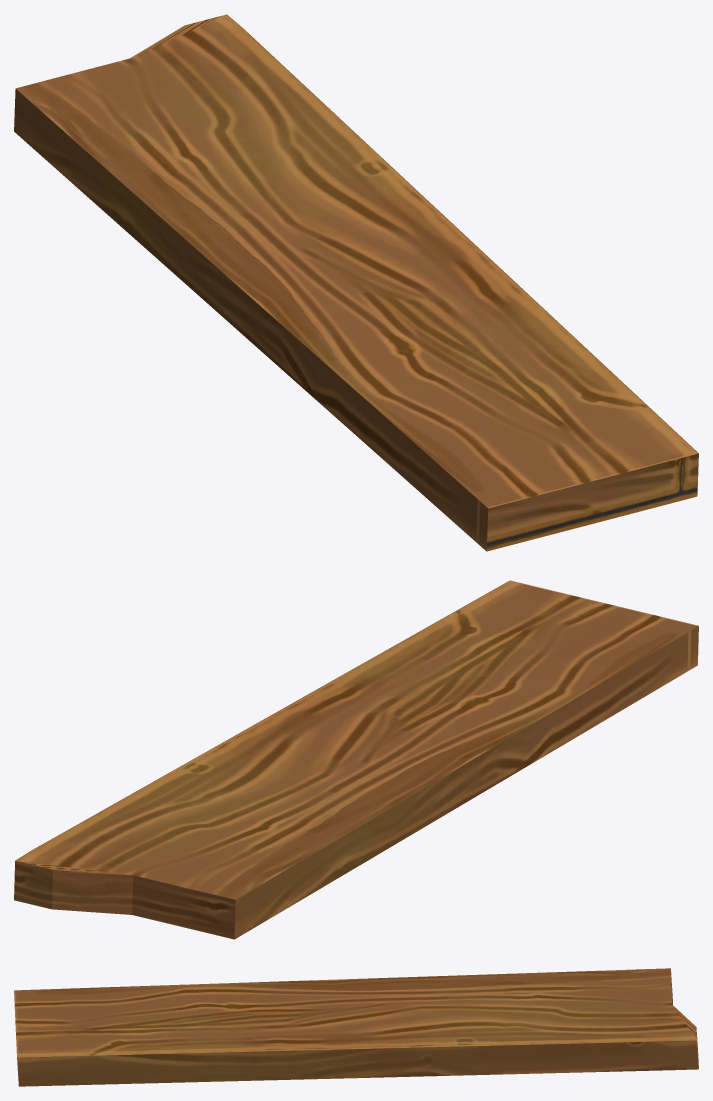
3 renders of one model, top to bottom at view 1: azimuth 30°, elevation 25°; view 2: azimuth 150°, elevation 25°; view 3: azimuth 270°, elevation 25°, orthographic. The views are drawn at different scales.
Parts seen in each view (by area): view 1: Cube.876; view 2: Cube.876; view 3: Cube.876.
Part boxes in pixels (bbox=[...]): Cube.876: bbox=[14, 14, 698, 551]; Cube.876: bbox=[14, 580, 698, 939]; Cube.876: bbox=[14, 968, 698, 1086].
Size of the model in its own units: 65.59 by 22.79 by 229.
1 material, 1 textured.
